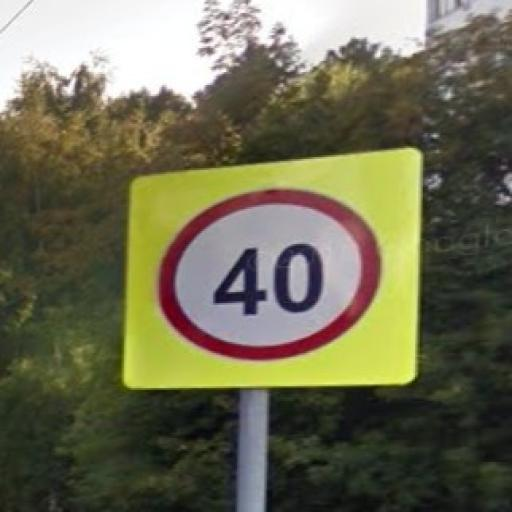traffic_sign: (155, 186, 386, 363)
